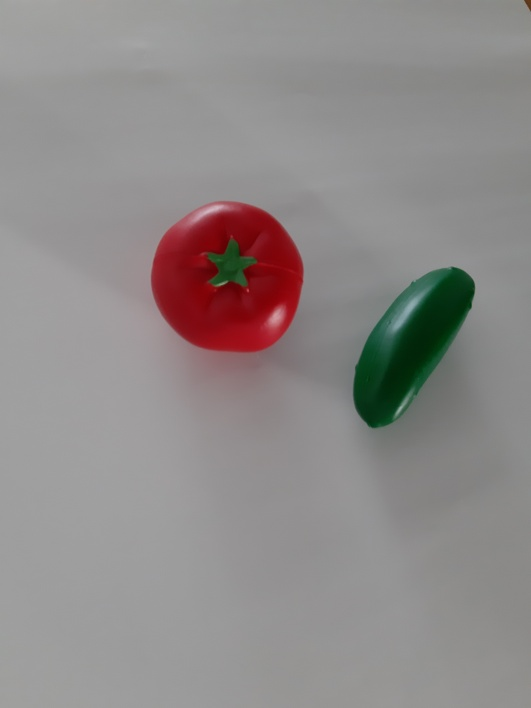cucumber: (343, 259, 484, 446)
tomato: (144, 192, 317, 365)
